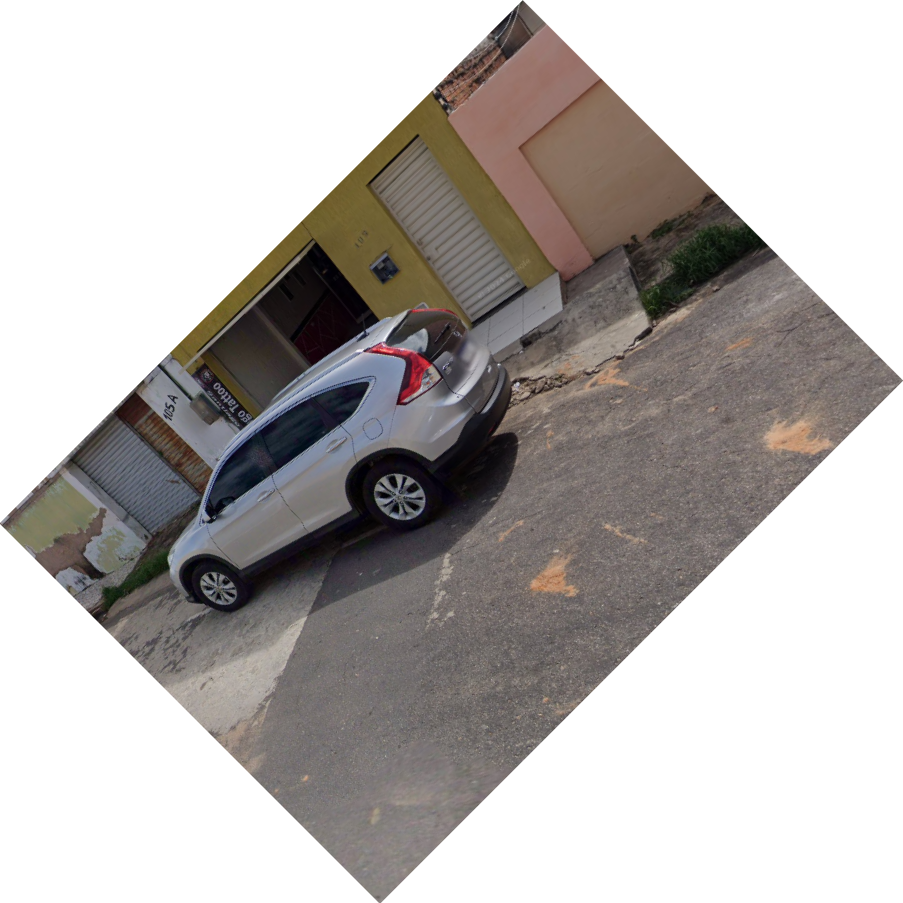car: (162, 295, 520, 631)
